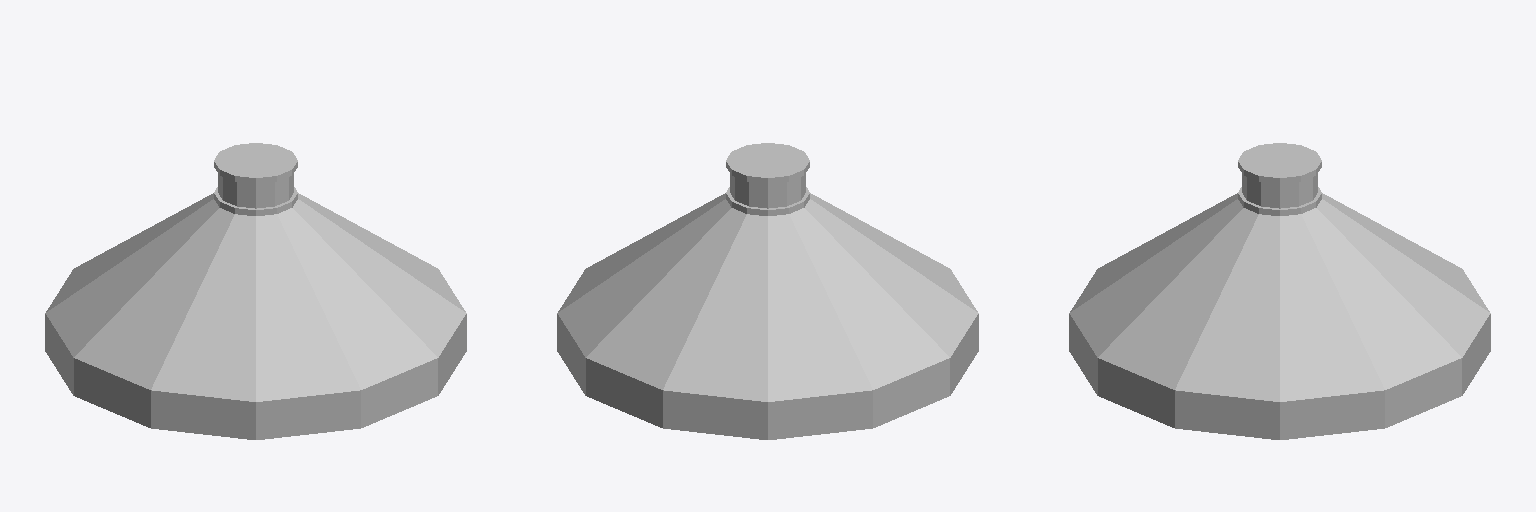
The model's file is holder_footer.obj.
3 renders of one model, left to right at view 1: azimuth 30°, elevation 25°; view 2: azimuth 150°, elevation 25°; view 3: azimuth 270°, elevation 25°, orthographic.
Parts seen in each view (by area): view 1: Cone001; view 2: Cone001; view 3: Cone001.
Boxes of the visible parts, <box> form: Cone001: <box>45,143,466,439</box>; Cone001: <box>557,143,978,439</box>; Cone001: <box>1069,143,1490,439</box>.
Bounding box in the file's own units: 0.65 × 0.325 × 0.65.